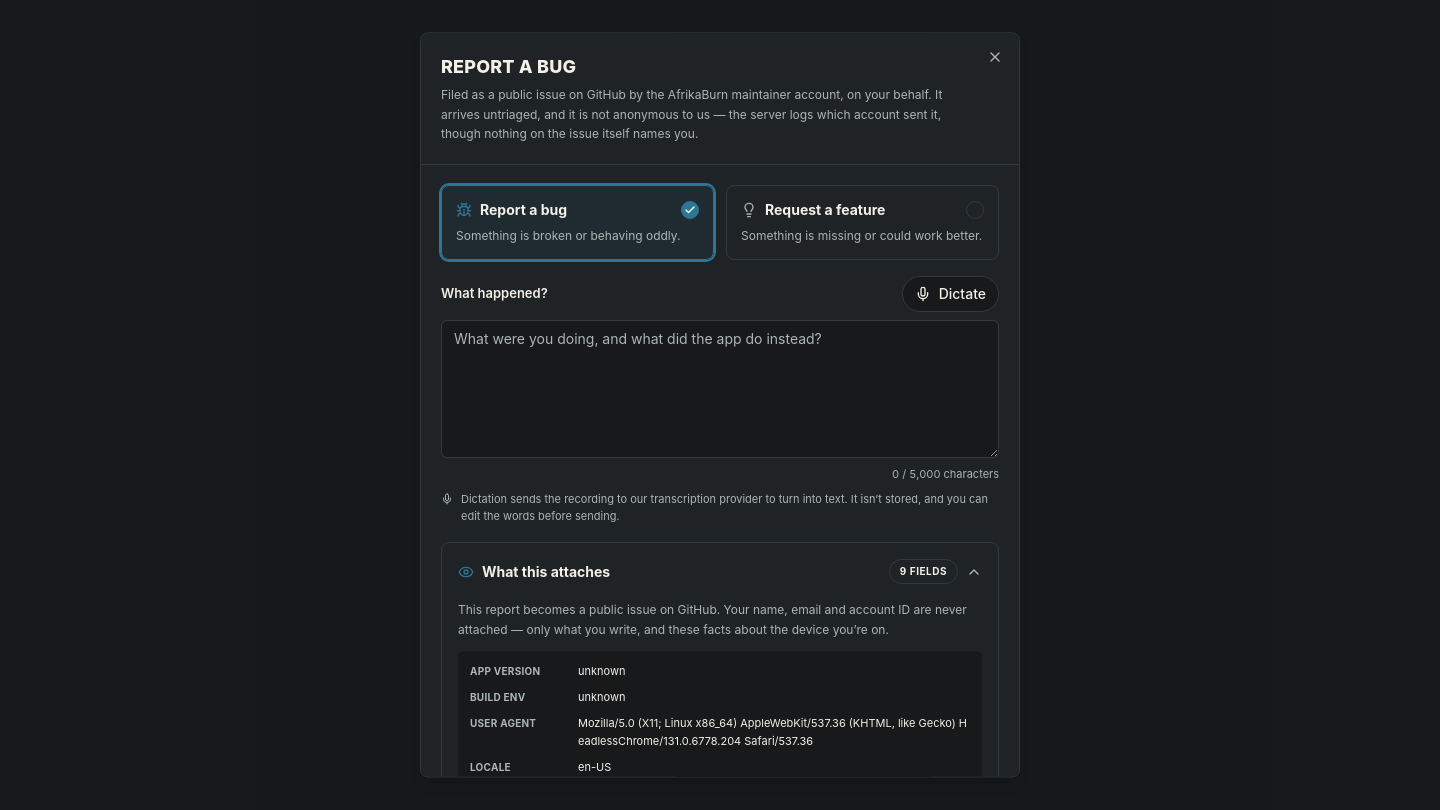
it: ReportDialog › replaces the disclosure with a plain statement on a feature request
Click the radio button labelled "Request a feature Something is missing or could work better.": point(825, 209) left=726, top=185, right=999, bottom=260
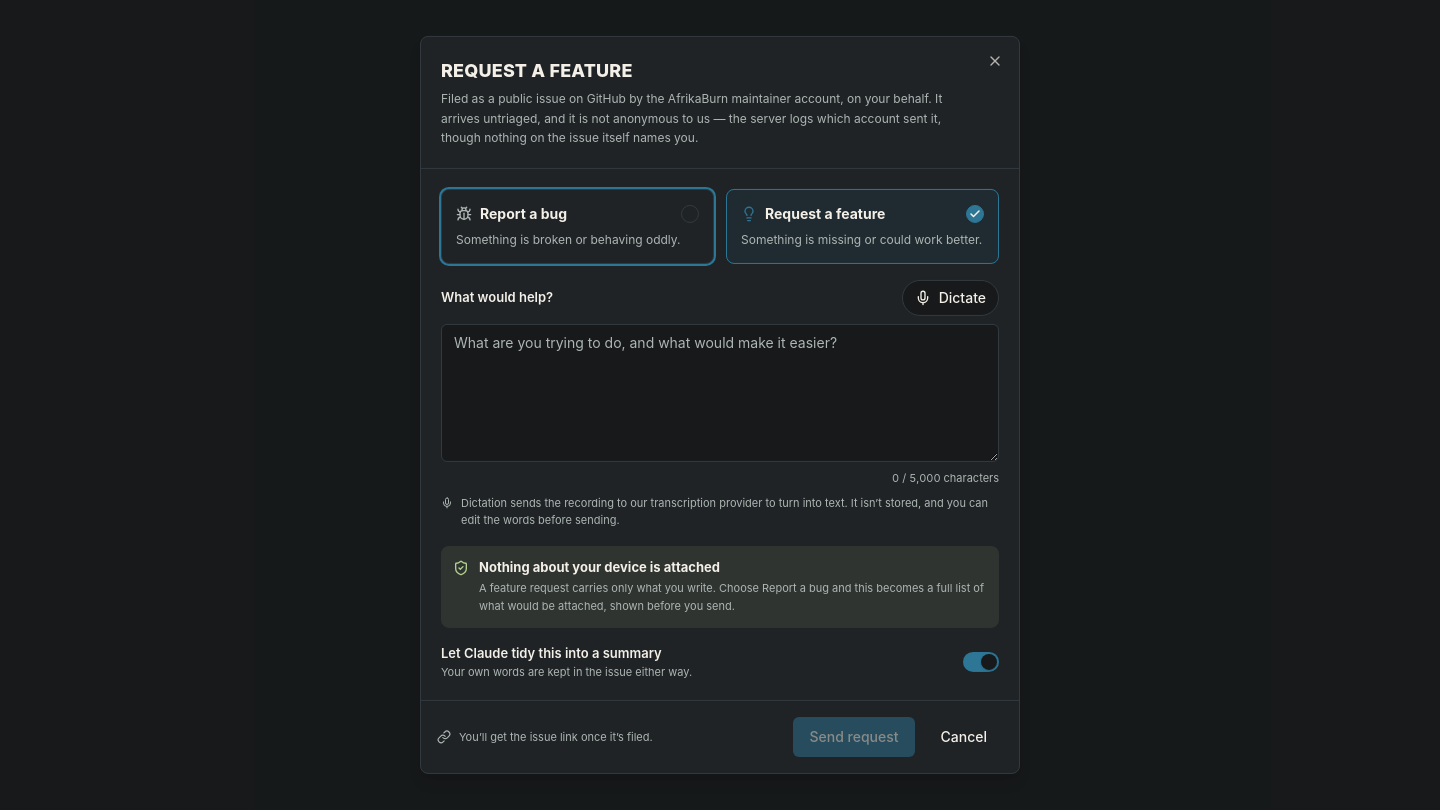
Now the text "Nothing about your device is attached" is shown, box left=479, top=559, right=720, bottom=575
Now the text "User agent" is gone
